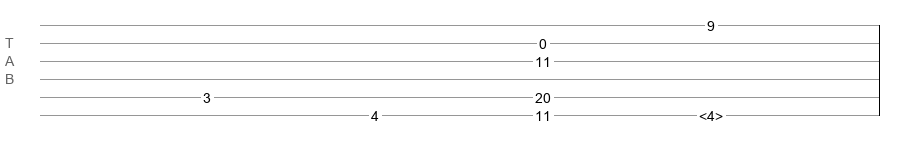0: (539, 36, 547, 46)
11: (535, 108, 551, 118), (535, 54, 551, 64)
20: (535, 90, 551, 100)
3: (203, 90, 211, 100)
4: (371, 108, 379, 118)
9: (707, 18, 715, 28)
harmonic: (699, 108, 723, 118)
